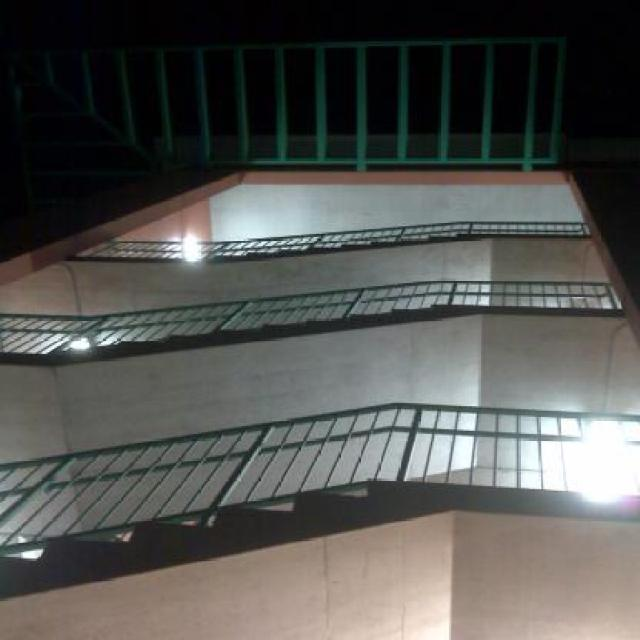stair: (1, 478, 457, 600), (52, 304, 482, 370), (200, 230, 492, 264)
